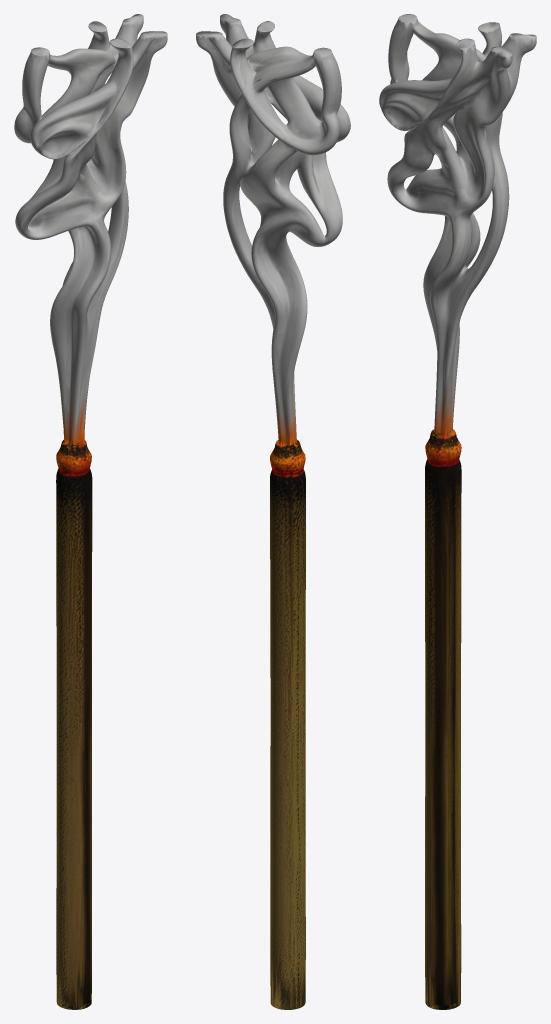
Rendered from Incense_Stick-v1.glb.
3 views of the same model, side by side, from view 1: azimuth 30°, elevation 25°; view 2: azimuth 150°, elevation 25°; view 3: azimuth 330°, elevation 25° (orthographic).
Parts seen in each view (by area): view 1: node_0; view 2: node_0; view 3: node_0.
Boxes of the visible parts, x1,y1,x2,y2 form: node_0: [14, 14, 167, 1009]; node_0: [196, 14, 350, 1009]; node_0: [379, 14, 536, 1009].
Bounding box in the file's own units: 0.1754 × 1.19 × 0.0914.
1 material, 1 textured.
